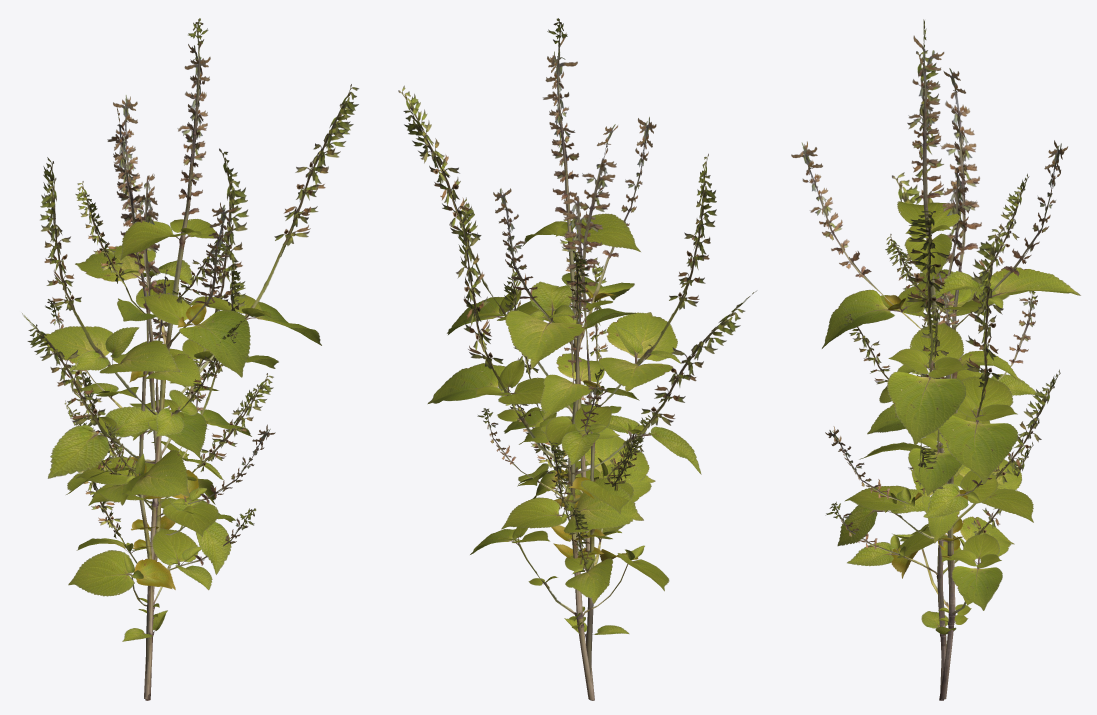
File: understory.glb
3 views of the same model, side by side, from view 1: azimuth 30°, elevation 25°; view 2: azimuth 150°, elevation 25°; view 3: azimuth 270°, elevation 25° (orthographic). The views are drawn at different scales.
Parts seen in each view (by area): view 1: shrub_03_a, shrub_03_b, shrub_03_c, shrub_03_d; view 2: shrub_03_a, shrub_03_b, shrub_03_c, shrub_03_d; view 3: shrub_03_a, shrub_03_b, shrub_03_c, shrub_03_d.
Part boxes in pixels (x1,y1,x2,y2): shrub_03_a: (40,18,358,700); shrub_03_b: (22,105,278,625); shrub_03_c: (45,173,256,698); shrub_03_d: (68,267,235,699); shrub_03_a: (398,18,716,700); shrub_03_b: (427,124,756,650); shrub_03_c: (503,196,639,696); shrub_03_d: (470,270,669,700); shrub_03_a: (791,19,1080,700); shrub_03_b: (825,68,1060,698); shrub_03_c: (825,167,1037,692); shrub_03_d: (837,271,1002,699).
Bounding box in the file's own units: 0.2197 × 0.4028 × 0.1512.
Materials: 1 (1 with a texture image).
